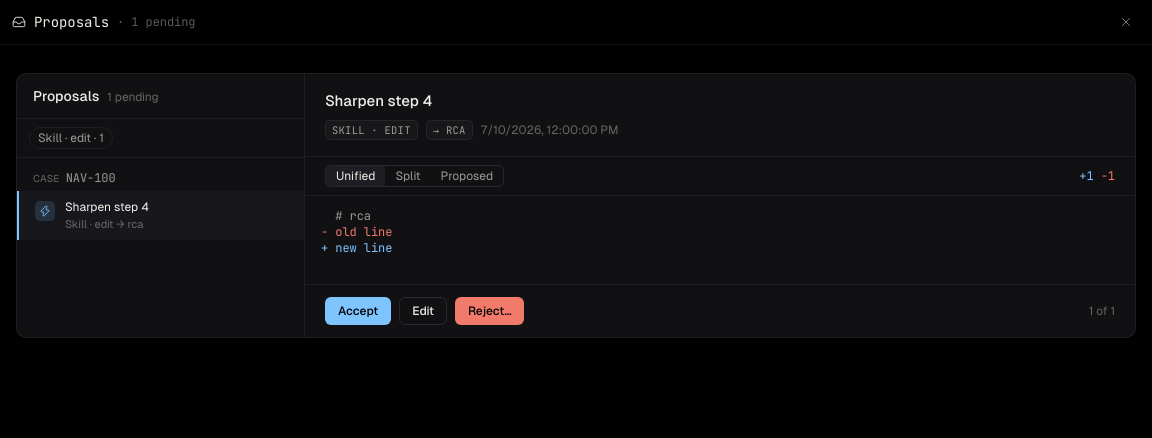
Test: ProposalsStandalone › rejecting the only pending row falls back to the empty state without crashing
Step 1. Click the button with aria-label "Reject Sharpen step 4" → [490, 311], box [455,297,524,325]
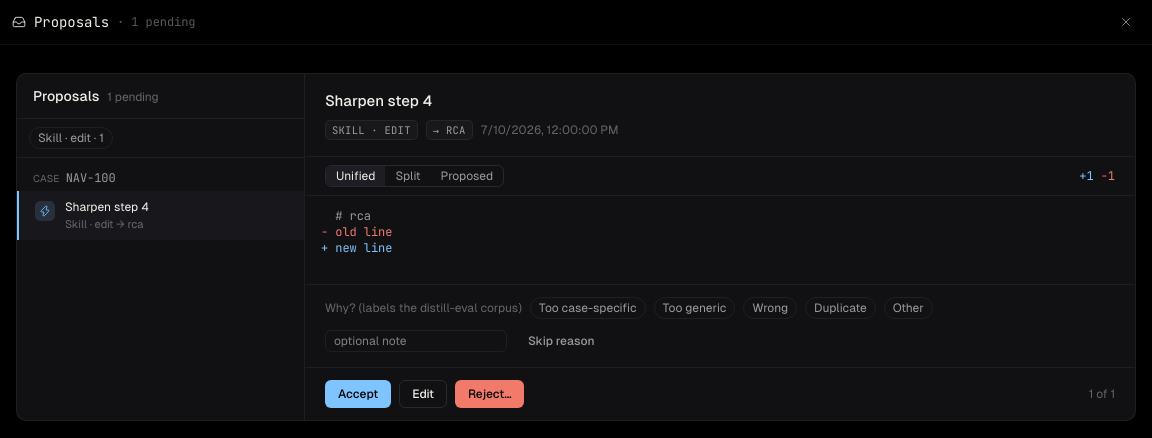
Step 2. Click the button with aria-label "Reject without a reason" → [561, 341], box [515,327,608,355]
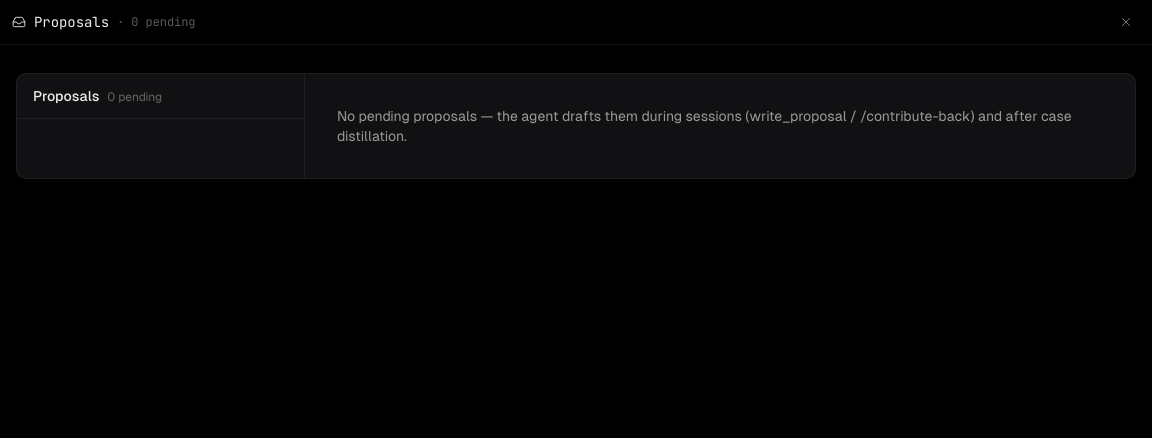
Result: the text "No pending proposals" is shown at [337,108,1072,144]
